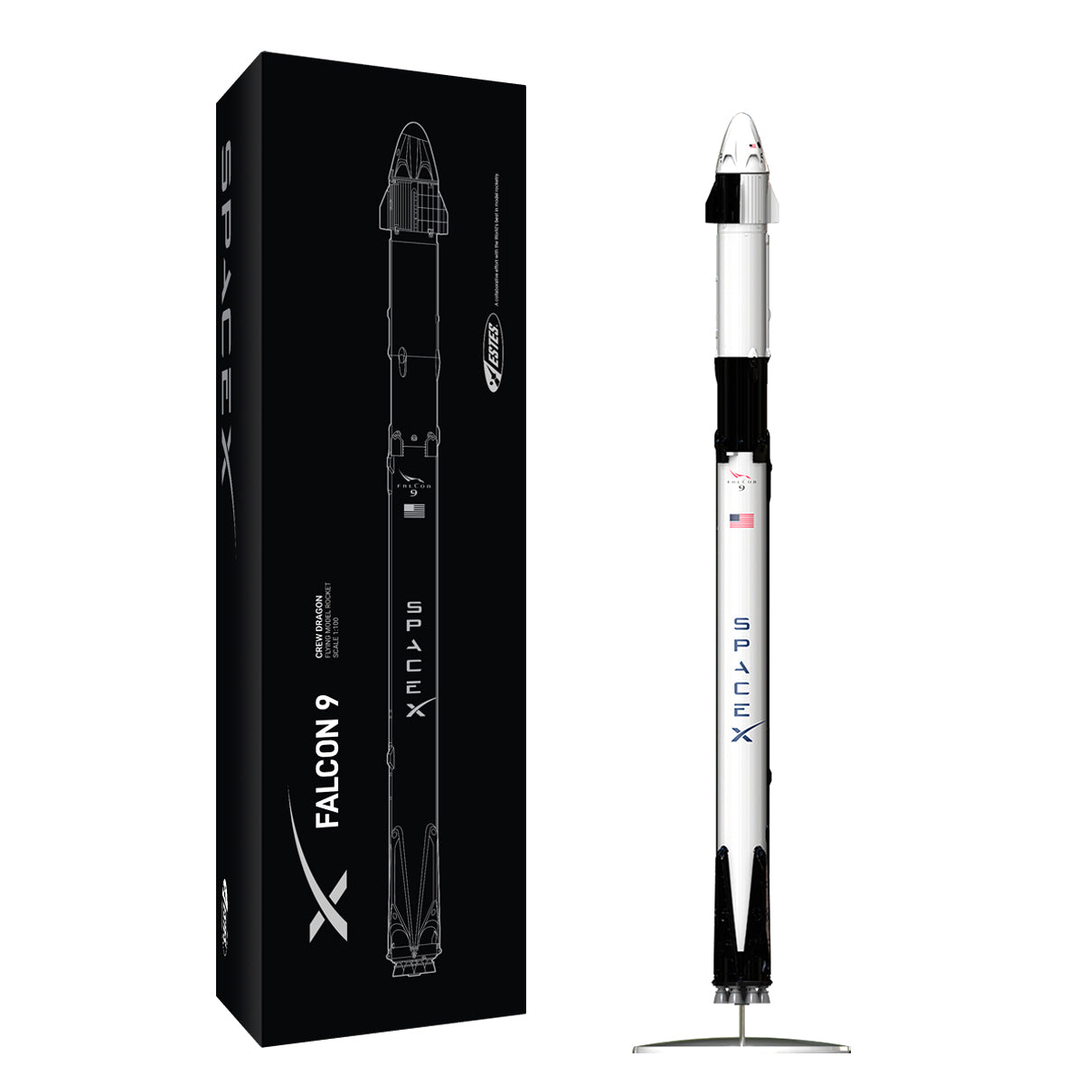falcon: (704, 92, 785, 1023)
